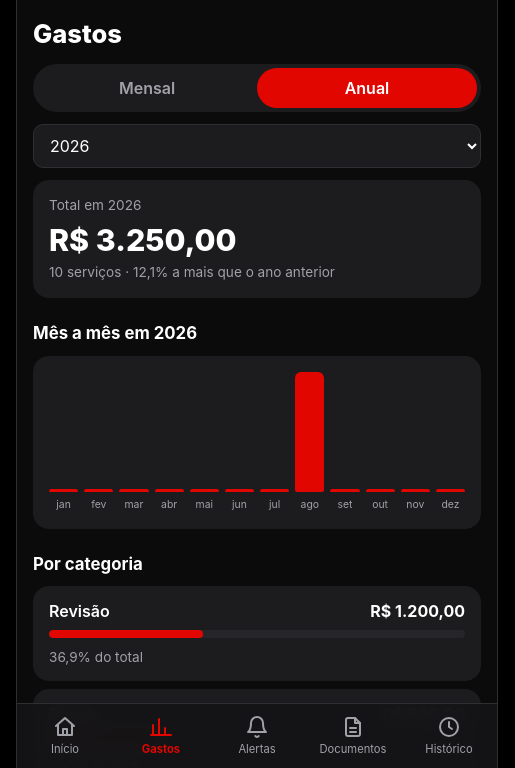
Test case: T04 · Painel de gastos › alterna para a visão mensal e busca o mês escolhido
This screenshot has width=515, height=768.
Click the button "Mensal" at (147, 88), box left=37, top=68, right=257, bottom=108
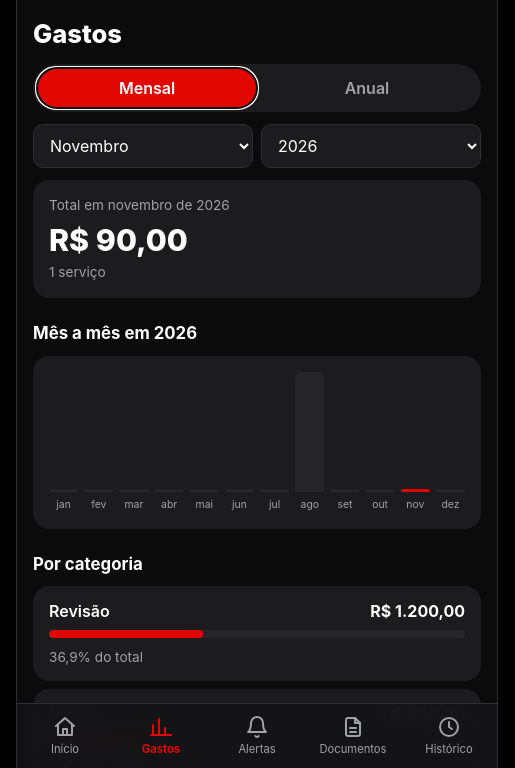
Expected: the text "R$ 90,00" is shown, left=49, top=222, right=188, bottom=258
Expected: the dropdown named "Mês" is shown, left=33, top=124, right=253, bottom=168
